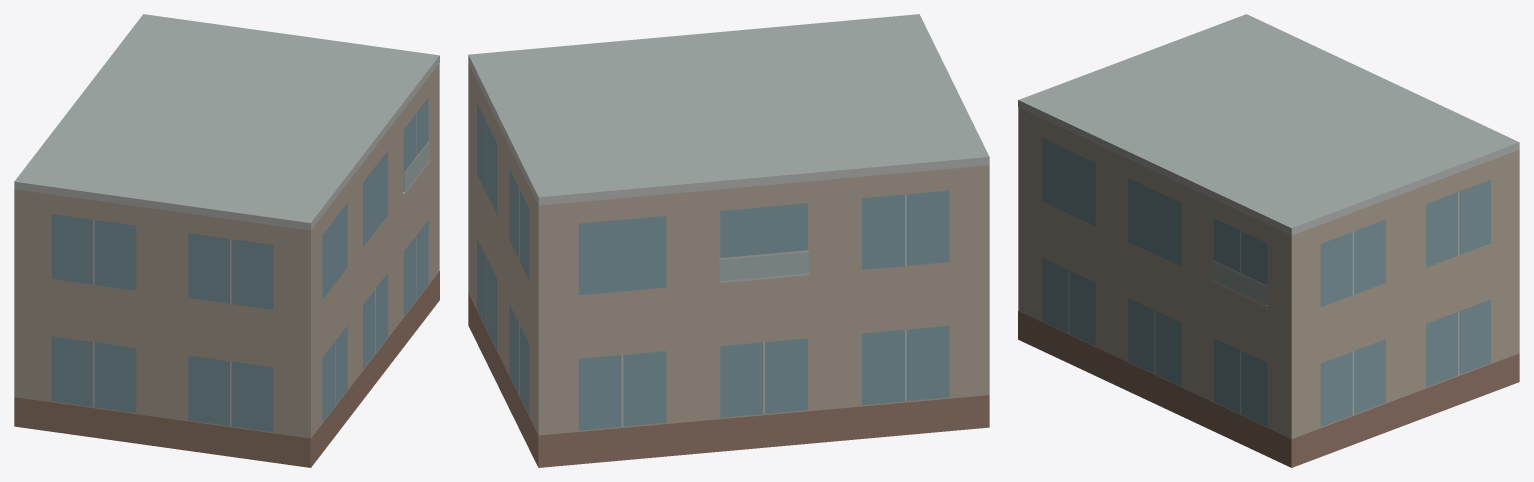
The model's file is survey-upis-33046618.glb.
3 renders of one model, left to right at view 1: azimuth 30°, elevation 25°; view 2: azimuth 150°, elevation 25°; view 3: azimuth 270°, elevation 25°, orthographic. The views are drawn at different scales.
Visible parts, largest first — view 1: survey-upis-33046618.tmp; view 2: survey-upis-33046618.tmp; view 3: survey-upis-33046618.tmp.
Part boxes in pixels (x1,y1,x2,y2): survey-upis-33046618.tmp: (14,14,439,467); survey-upis-33046618.tmp: (468,14,989,467); survey-upis-33046618.tmp: (1018,14,1519,467).
Bounding box in the file's own units: 15.16 × 7.9 × 14.99.
